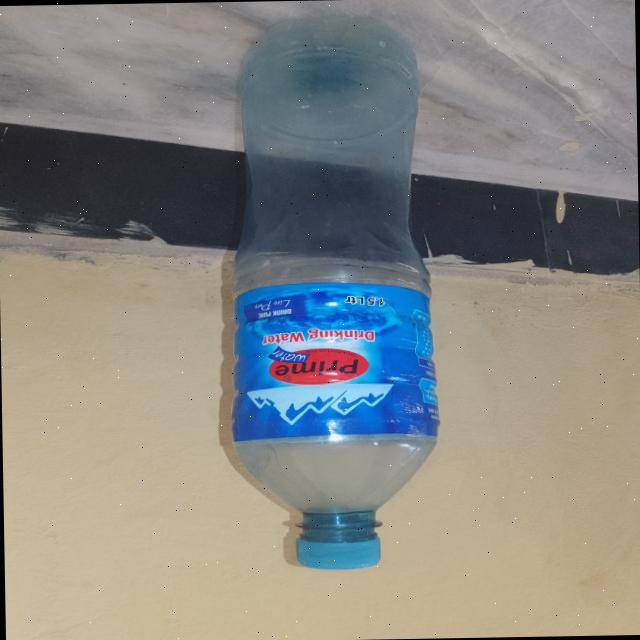bottle: (178, 6, 462, 590)
cap: (276, 526, 396, 576)
label: (215, 270, 441, 451)
